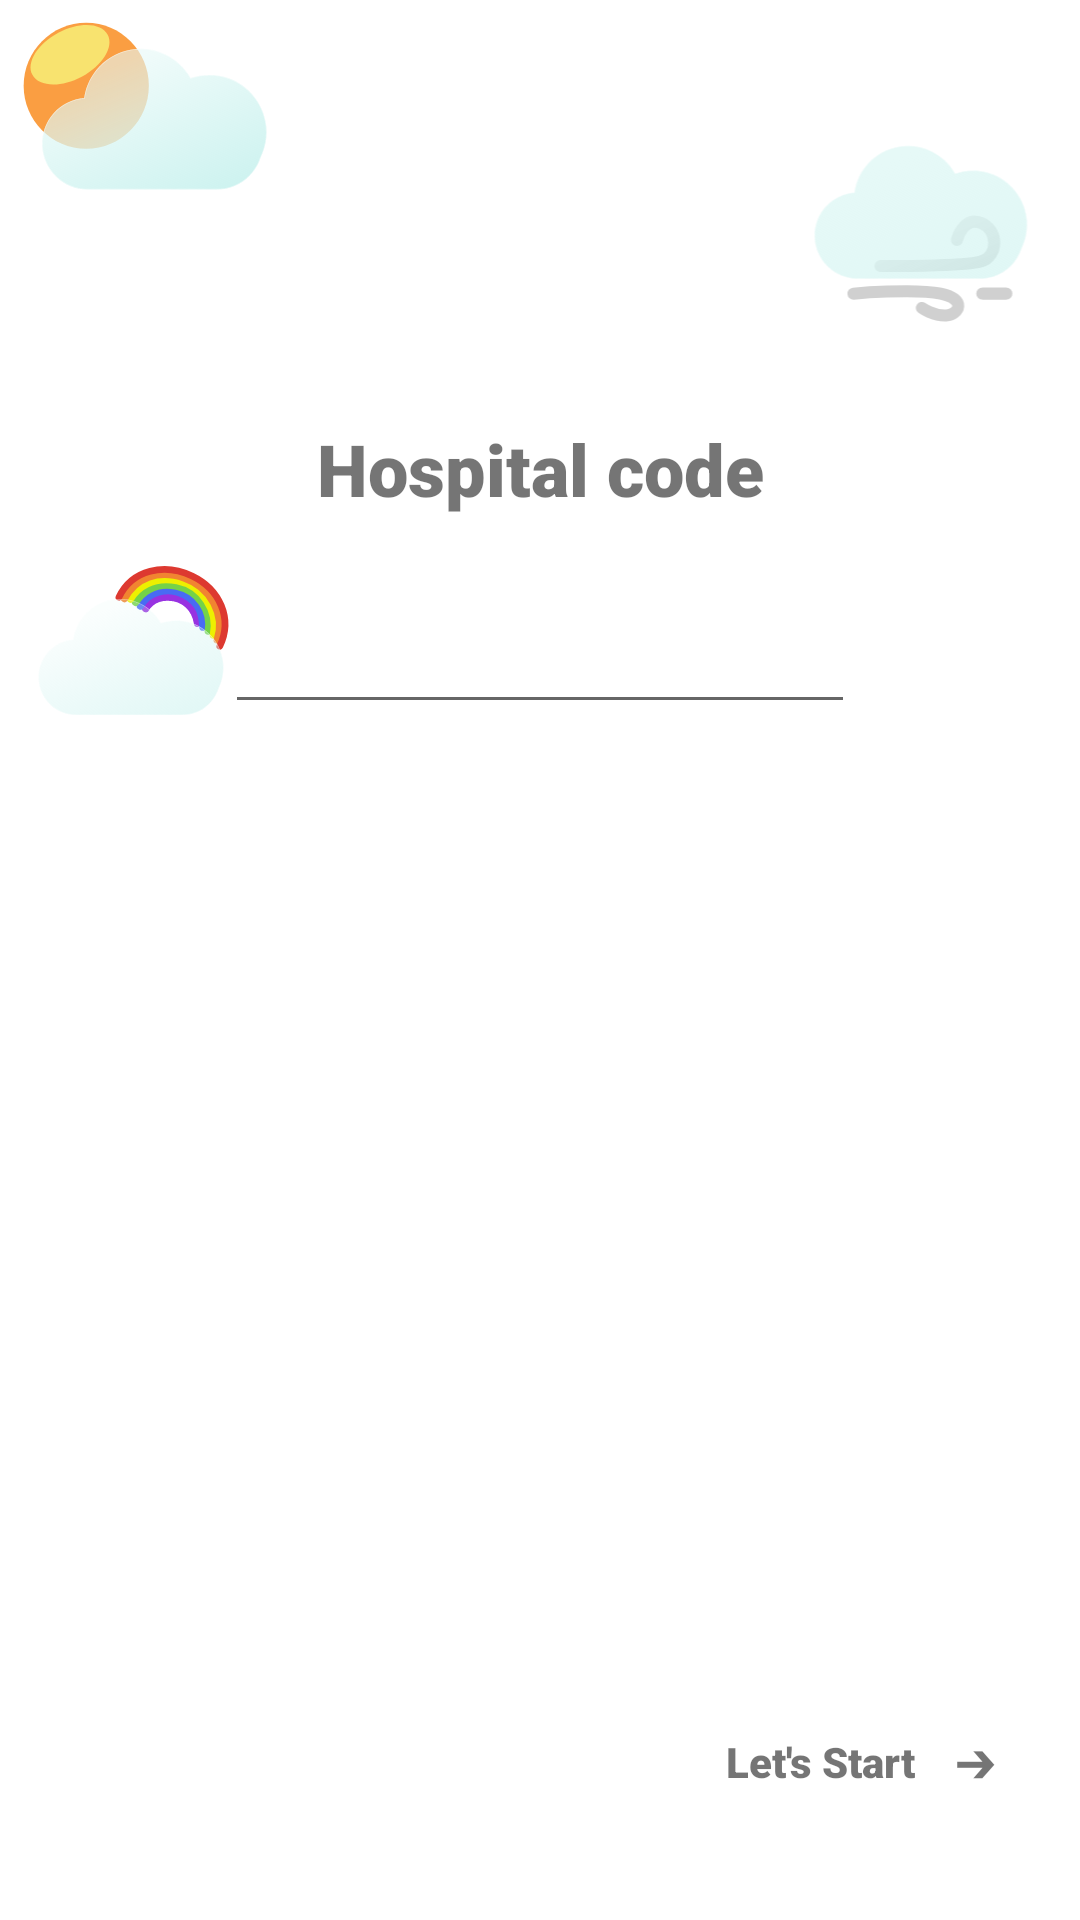

Icon click points for this 1080px x 1920px phone screenshot, format point (x, y):
weathericon: point (144, 105), point (921, 234), point (172, 640)
